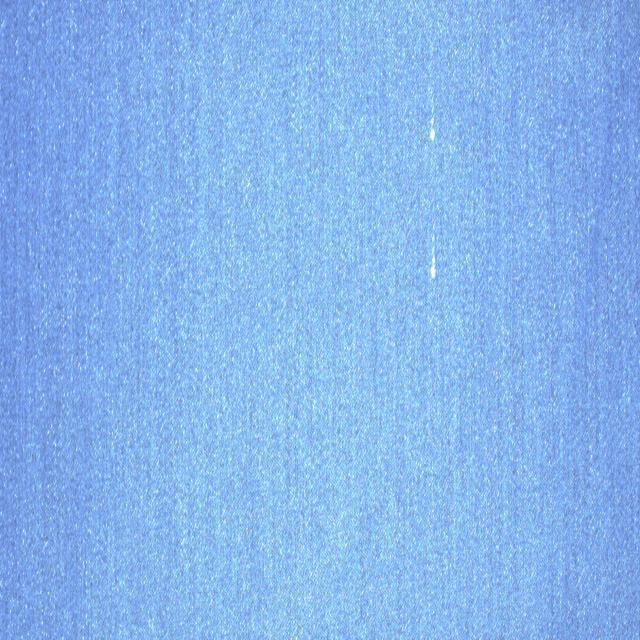Knot: (430, 246, 436, 280), (430, 117, 437, 140)
